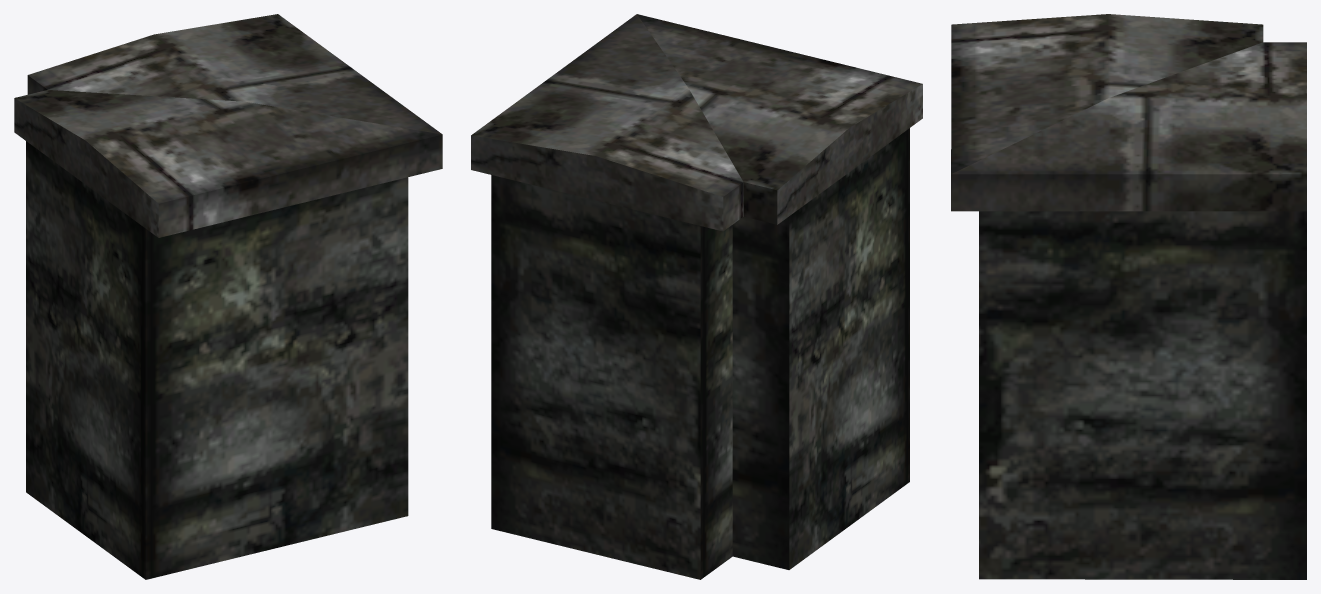
File: fencewall05.DAE
The picture shows the model from 3 angles, left to right: view 1: azimuth 30°, elevation 25°; view 2: azimuth 150°, elevation 25°; view 3: azimuth 270°, elevation 25°; orthographic projection. The views are drawn at different scales.
Parts seen in each view (by area): view 1: Object070; view 2: Object070; view 3: Object070.
Part boxes in pixels (x1,y1,x2,y2): Object070: (14,14,442,579); Object070: (471,14,922,579); Object070: (951,14,1306,579).
Bounding box in the file's own units: 0.8909 × 1.18 × 0.8946.
